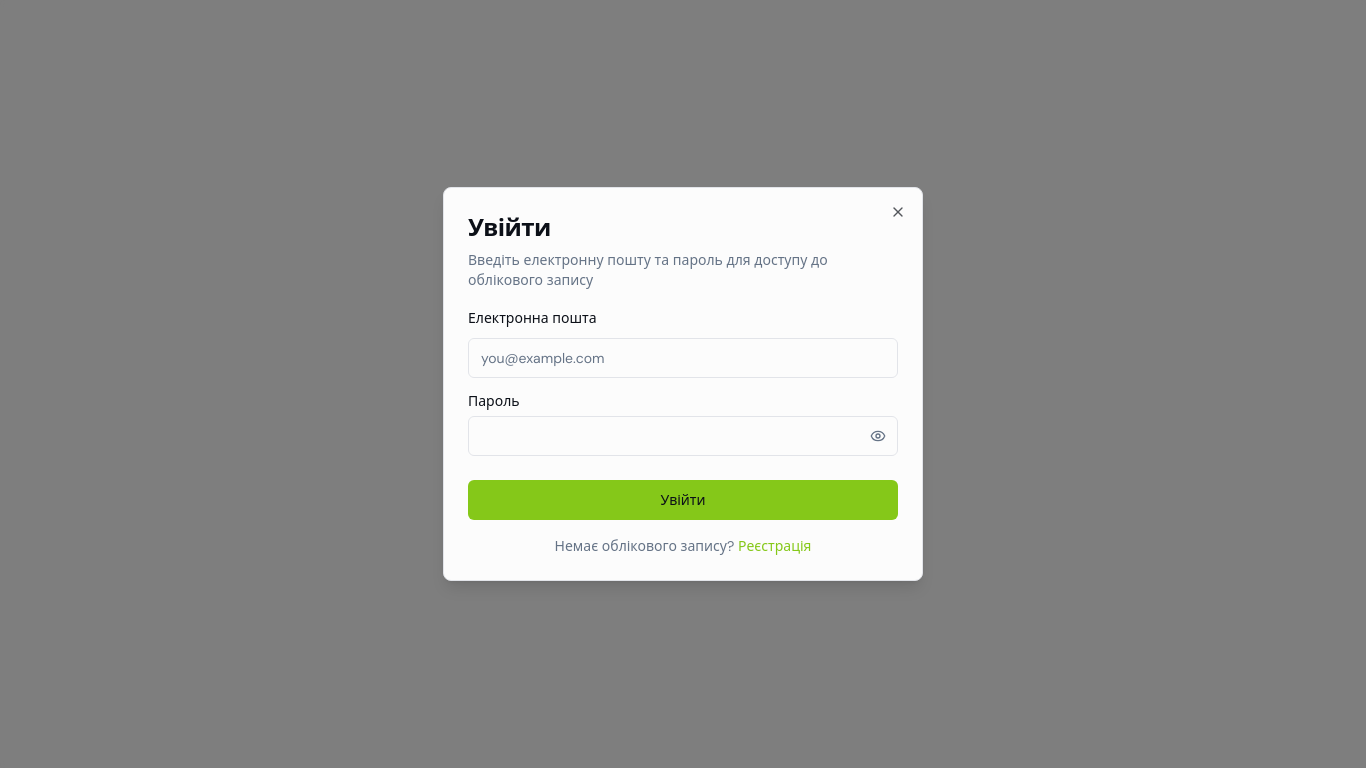
Test: credentials the server refused, in uk › is explained in the login form's own language
The image size is (1366, 768).
In the field labelled "Електронна пошта": [683, 358] box [468,338,898,378], type "user@test.com"
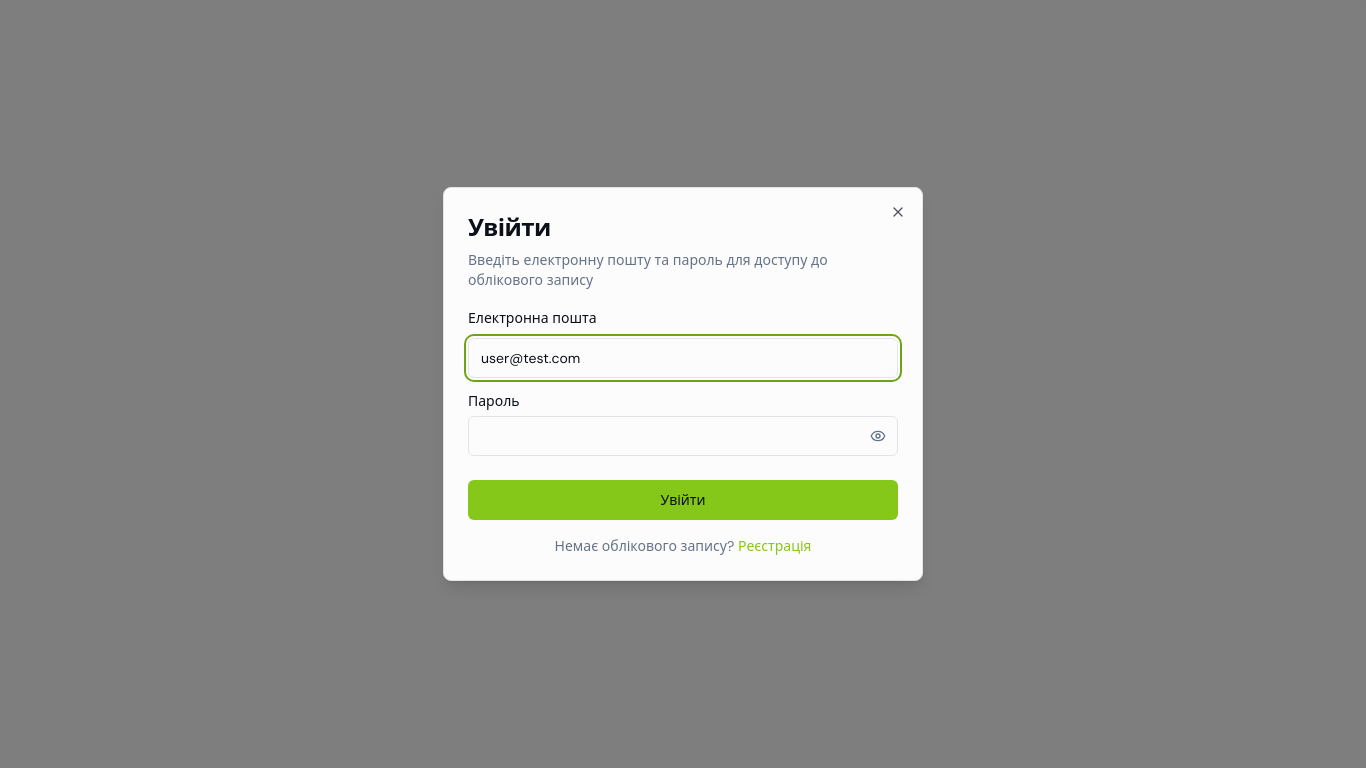
In the password field labelled "Пароль": [683, 436] box [468,416,898,456], type "validpass1"
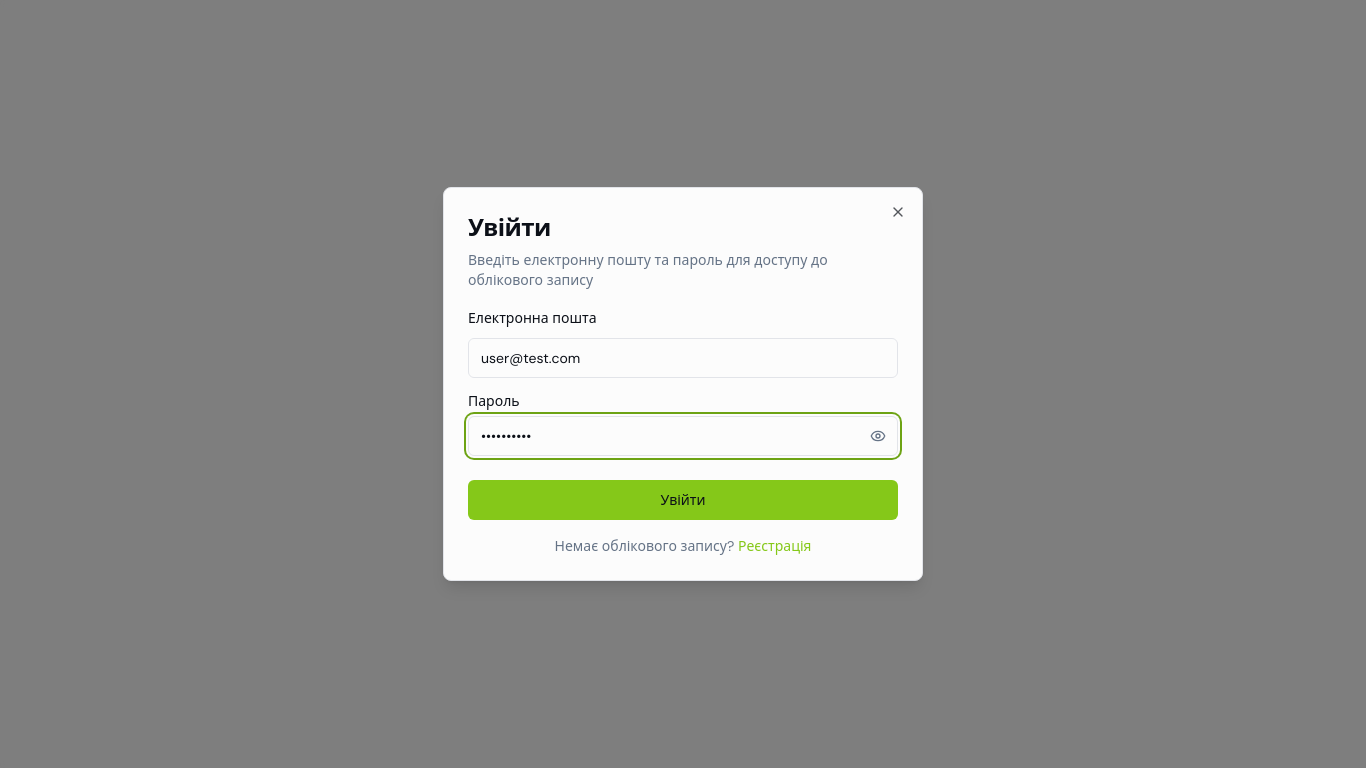
Click the button "Увійти": [683, 500] box [468,480,898,520]
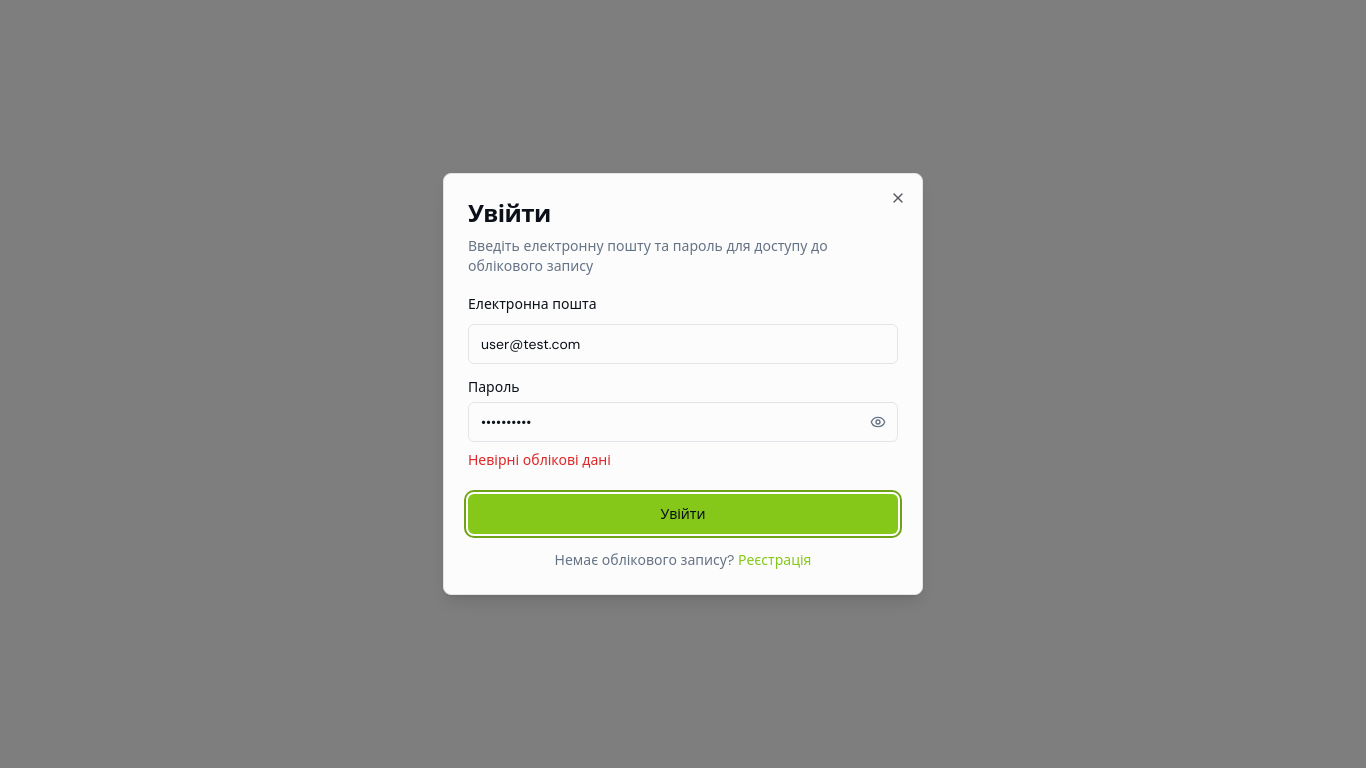
Expected: the text "Невірні облікові дані" is shown, [468,451,611,469]
